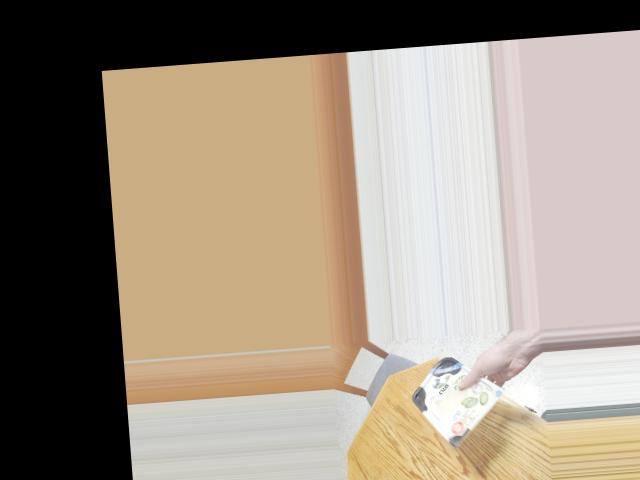cheese: (417, 354, 490, 438)
